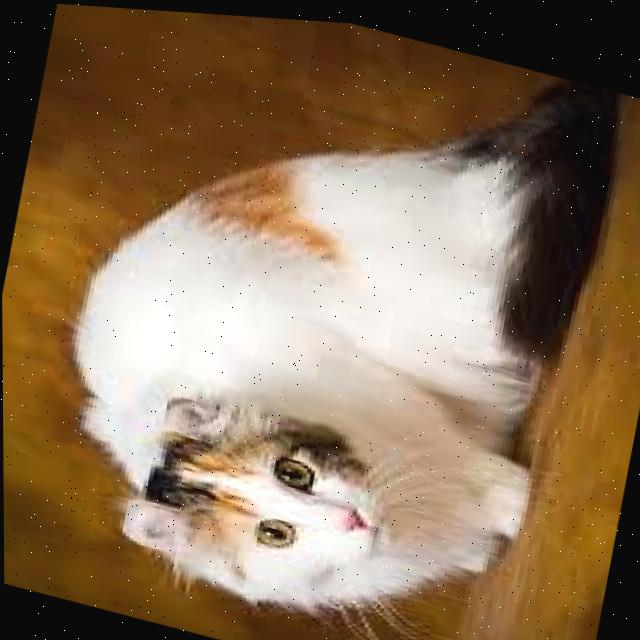American Curl: (19, 1, 636, 640)
